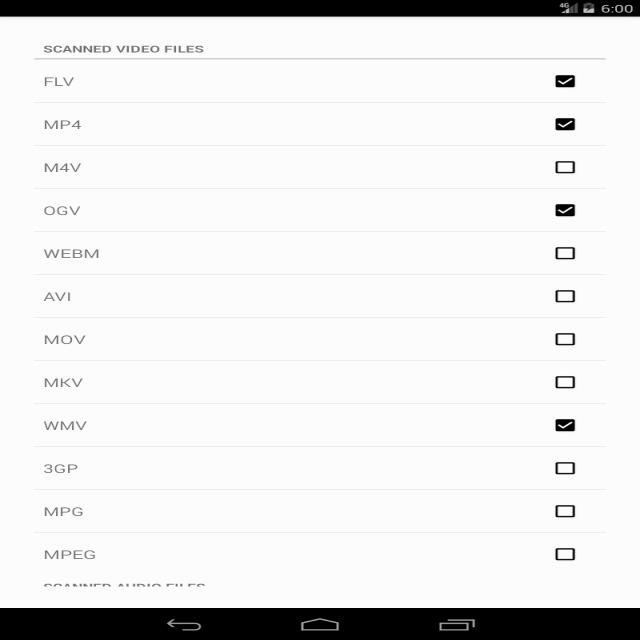CheckBox: (550, 114, 580, 136), (550, 329, 582, 348), (549, 200, 582, 218), (550, 503, 584, 520), (550, 159, 580, 177), (553, 286, 580, 306), (553, 417, 580, 435), (553, 72, 579, 90)
TextView: (37, 41, 212, 55), (38, 458, 86, 478), (39, 160, 83, 177), (38, 288, 79, 304), (39, 72, 77, 87)
